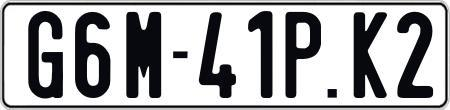1: (247, 8, 272, 95)
2: (396, 10, 435, 99)
4: (196, 12, 239, 104)
6: (74, 11, 112, 99)
G: (25, 9, 64, 100)
K: (351, 10, 385, 98)
M: (125, 11, 163, 99)
P: (286, 11, 325, 100)
